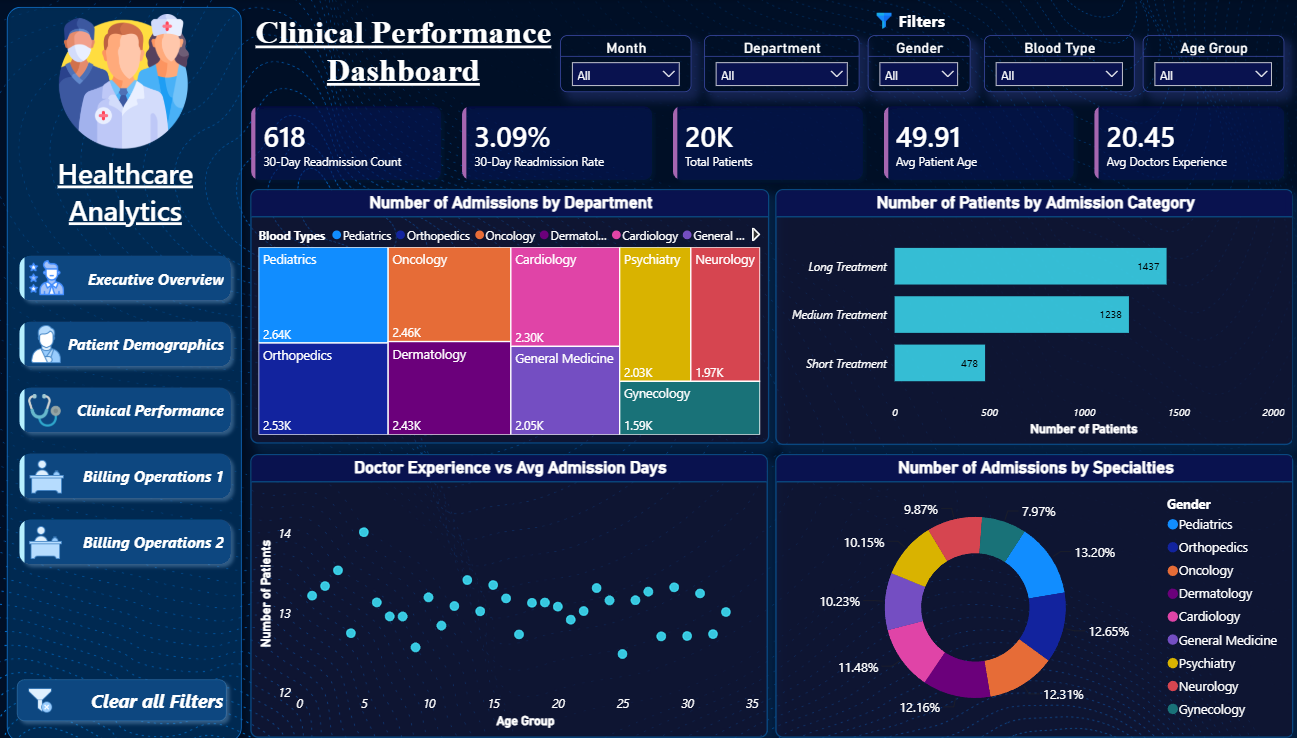

The dashboard page shown, as its layout file describes it:
{"tool":"powerbi","page":{"name":"Clinical Performance","canvas":[1500,860],"ordinal":2},"visuals":[{"type":"group","id":"g1","title":"Group 2","box":[0,0,288.9,865.2],"z":0,"group":"g5"},{"type":"shape","box":[0,0,288.9,865.2],"z":0,"group":"g1"},{"type":"group","id":"g2","title":"Group 4","box":[626.7,0,874.1,125.3],"z":0,"group":"g4"},{"type":"group","id":"g3","title":"Group 3","box":[626.7,0,874.1,125.3],"z":0,"group":"g2"},{"type":"shape","box":[626.7,0,874.1,125.3],"z":0,"group":"g3"},{"type":"cardVisual","fields":{"Data":["measures_.30-Day Readmission Count","measures_.30-Day Readmission Rate","measures_.Total Patients","measures_.Avg Patient Age","measures_.Avg Doctors Experience"]},"box":[273.6,107,1225.9,119.2],"z":0},{"type":"pageNavigator","box":[13.9,287.4,262.3,374.7],"z":0,"group":"g6"},{"type":"group","id":"g4","title":"Group 5","box":[626.7,0,874.3,125.3],"z":1000},{"type":"textbox","box":[633.8,6.7,859.3,41.6],"z":1000,"group":"g2"},{"type":"image","box":[1001.5,16.2,37.4,18.7],"z":1000,"group":"g4"},{"type":"image","box":[58.1,16.6,172.7,155.2],"z":1000,"group":"g1"},{"type":"slicer","title":"Department","fields":{"Values":["admissions.department"]},"box":[812,41.3,179,65.3],"z":1000,"group":"g3"},{"type":"image","box":[30.6,300.7,46.7,43.3],"z":1000,"group":"g6"},{"type":"actionButton","box":[12.2,774.8,259.9,66.2],"z":1000,"group":"g5"},{"type":"group","id":"g5","title":"Group 6","box":[0,0,288.9,865.2],"z":2000},{"type":"slicer","title":"Gender","fields":{"Values":["patients.gender"]},"box":[1001.5,41.3,118.2,65.3],"z":2000,"group":"g3"},{"type":"textbox","box":[16.7,168.3,256.7,116.7],"z":2000,"group":"g1"},{"type":"image","box":[29.6,375.8,48.9,46.7],"z":2000,"group":"g6"},{"type":"image","box":[24.5,793.4,45.4,28.5],"z":2000,"group":"g5"},{"type":"textbox","box":[285.3,0,361.7,125.4],"z":3000},{"type":"slicer","title":"Age Group","fields":{"Values":["patients.age_group"]},"box":[1318.3,41.3,162.9,65.3],"z":3000,"group":"g3"},{"type":"image","box":[30.6,530.7,46.7,41.1],"z":3000,"group":"g6"},{"type":"slicer","title":"Blood Type","fields":{"Values":["patients.bloodtype"]},"box":[1135.1,41.3,173.4,65.3],"z":4000,"group":"g3"},{"type":"treemap","title":"Number of Admissions by Department","fields":{"Group":["admissions.department"],"Values":["CountNonNull(admissions.admissionid)"]},"box":[289.6,219,598,294],"z":4000},{"type":"image","box":[30,606.6,46.7,40],"z":4000,"group":"g6"},{"type":"slicer","title":"Month","fields":{"Values":["Calendar.Month"]},"box":[647,41.3,151.1,65.3],"z":5000,"group":"g3"},{"type":"clusteredBarChart","title":"Number of Patients by Length of Treatment","fields":{"Category":["admissions.stay_category"],"Y":["measures_.Total Admissions"]},"box":[895.4,219.1,597.4,295],"z":5000},{"type":"image","box":[28.9,456.6,47.8,37.8],"z":5000,"group":"g6"},{"type":"clusteredBarChart","title":"Number of Patients By Top 5 Doctor ","fields":{"Category":["doctors.firstname"],"Y":["measures_.Total Admissions"]},"box":[289.6,524.5,596.6,327.1],"z":6000},{"type":"donutChart","title":"Number of Admissions by Specialties","fields":{"Y":["measures_.Total Admissions"],"Category":["doctors.specialty"]},"box":[894.9,524.5,598,327.1],"z":7000},{"type":"group","id":"g6","title":"Group 1","box":[13.9,287.4,262.3,374.7],"z":8000}]}

Visuals, with their boxes in screenshot pixels (x1, y1, x2, y2), scaled from the page's 1500x860 canvas onto the 1297x738 screenshot:
"Group 2" group: detection(0, 0, 250, 737)
shape: detection(0, 0, 250, 737)
"Group 4" group: detection(542, 0, 1296, 108)
"Group 3" group: detection(542, 0, 1296, 108)
shape: detection(542, 0, 1296, 108)
cardVisual - measures_.30-Day Readmission Count x measures_.30-Day Readmission Rate: detection(237, 92, 1296, 194)
pageNavigator: detection(12, 247, 239, 568)
"Group 5" group: detection(542, 0, 1296, 108)
textbox: detection(548, 6, 1291, 41)
image: detection(866, 14, 898, 30)
image: detection(50, 14, 200, 147)
"Department" slicer: detection(702, 35, 857, 91)
image: detection(26, 258, 67, 295)
actionButton: detection(11, 665, 235, 722)
"Group 6" group: detection(0, 0, 250, 737)
"Gender" slicer: detection(866, 35, 968, 91)
textbox: detection(14, 144, 236, 245)
image: detection(26, 322, 68, 363)
image: detection(21, 681, 60, 705)
textbox: detection(247, 0, 559, 108)
"Age Group" slicer: detection(1140, 35, 1281, 91)
image: detection(26, 455, 67, 491)
"Blood Type" slicer: detection(981, 35, 1131, 91)
"Number of Admissions by Department" treemap: detection(250, 188, 767, 440)
image: detection(26, 521, 66, 555)
"Month" slicer: detection(559, 35, 690, 91)
"Number of Patients by Length of Treatment" clusteredBarChart: detection(774, 188, 1291, 441)
image: detection(25, 392, 66, 424)
"Number of Patients By Top 5 Doctor " clusteredBarChart: detection(250, 450, 766, 731)
"Number of Admissions by Specialties" donutChart: detection(774, 450, 1291, 731)
"Group 1" group: detection(12, 247, 239, 568)
